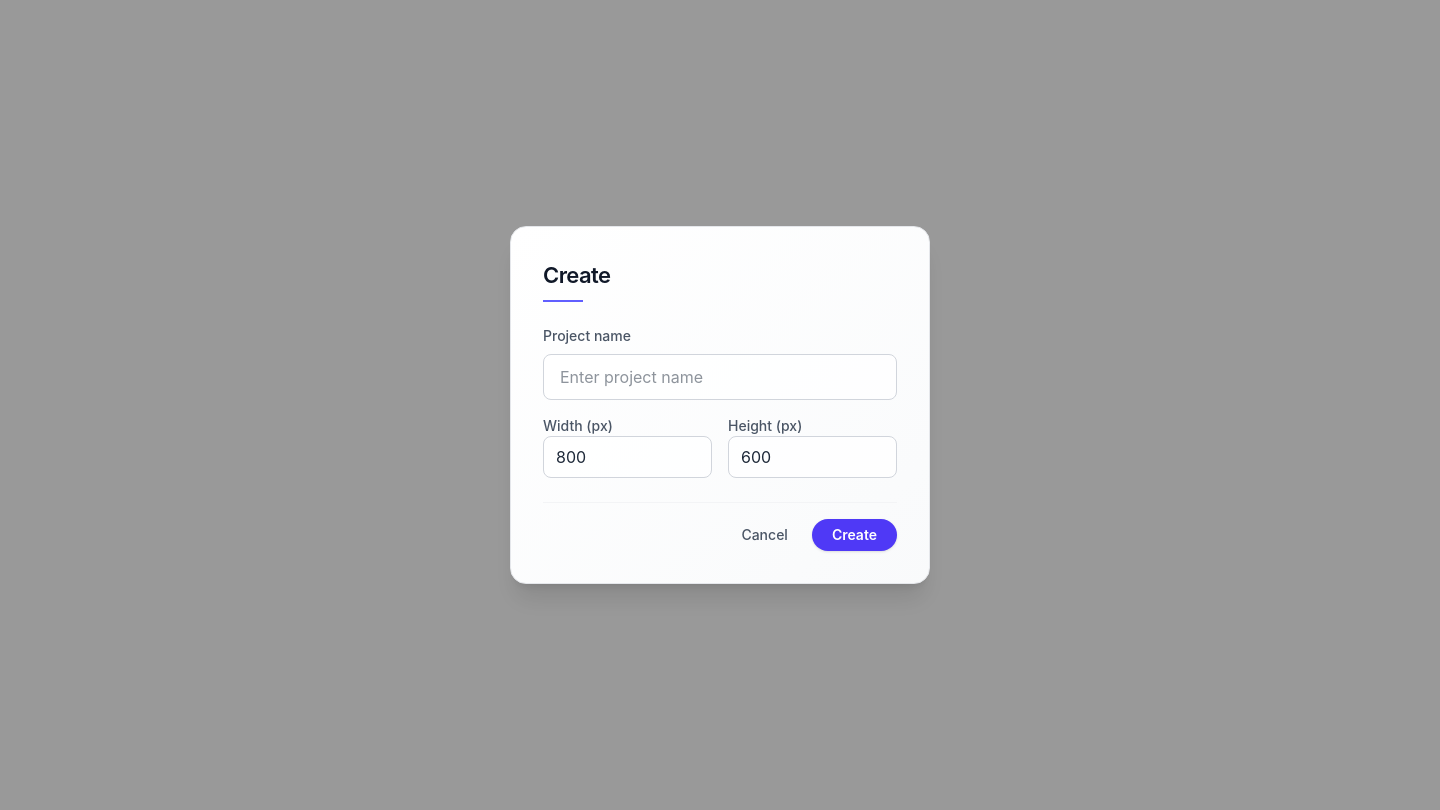
Test case: ProjectModalBase (simplified) › shows error when width > 4000
In the field with test id "project-input": (720, 377) [543, 354, 897, 400], type "X"
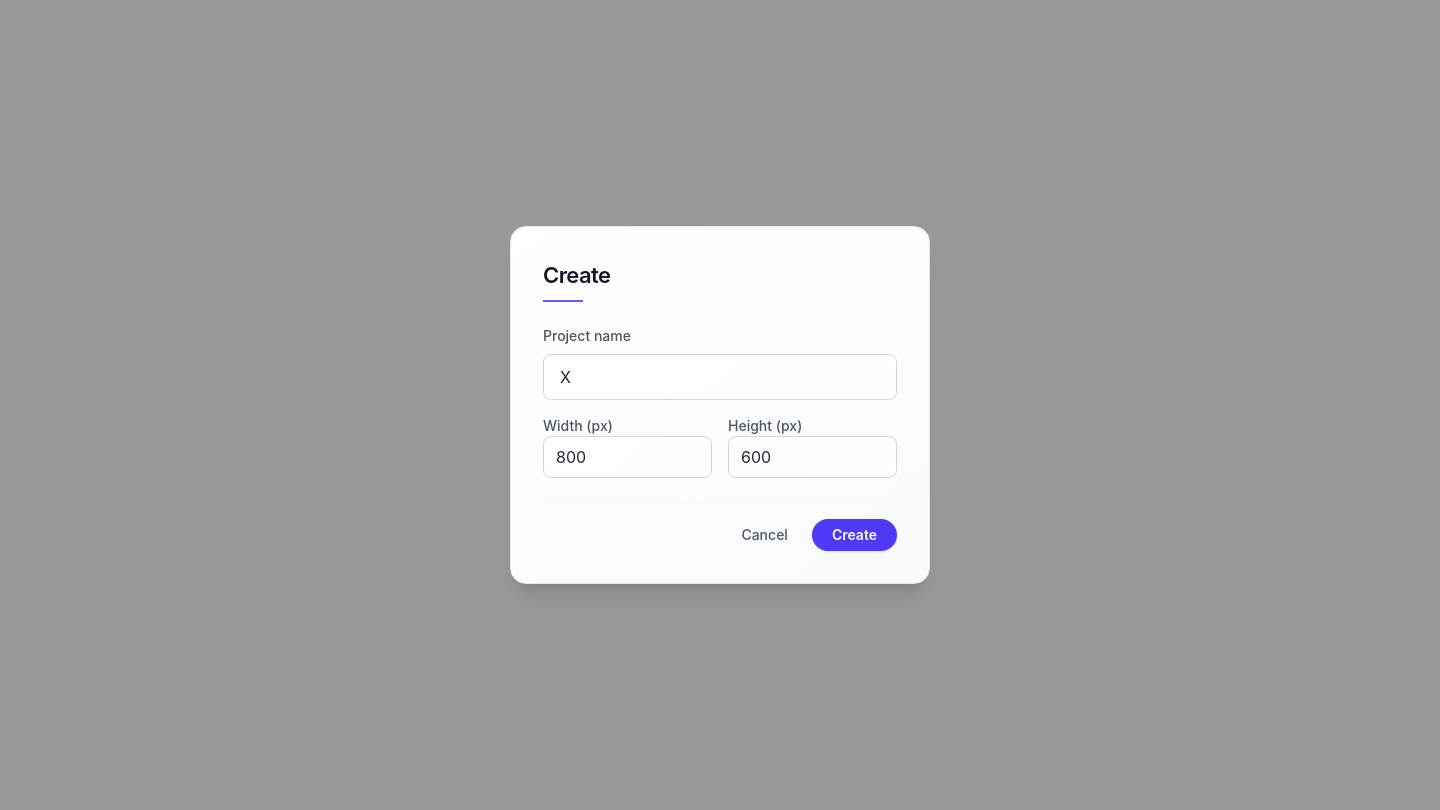
Replace the text in the number field with test id "canvas-width" with "9999": (628, 457) [543, 436, 712, 478]
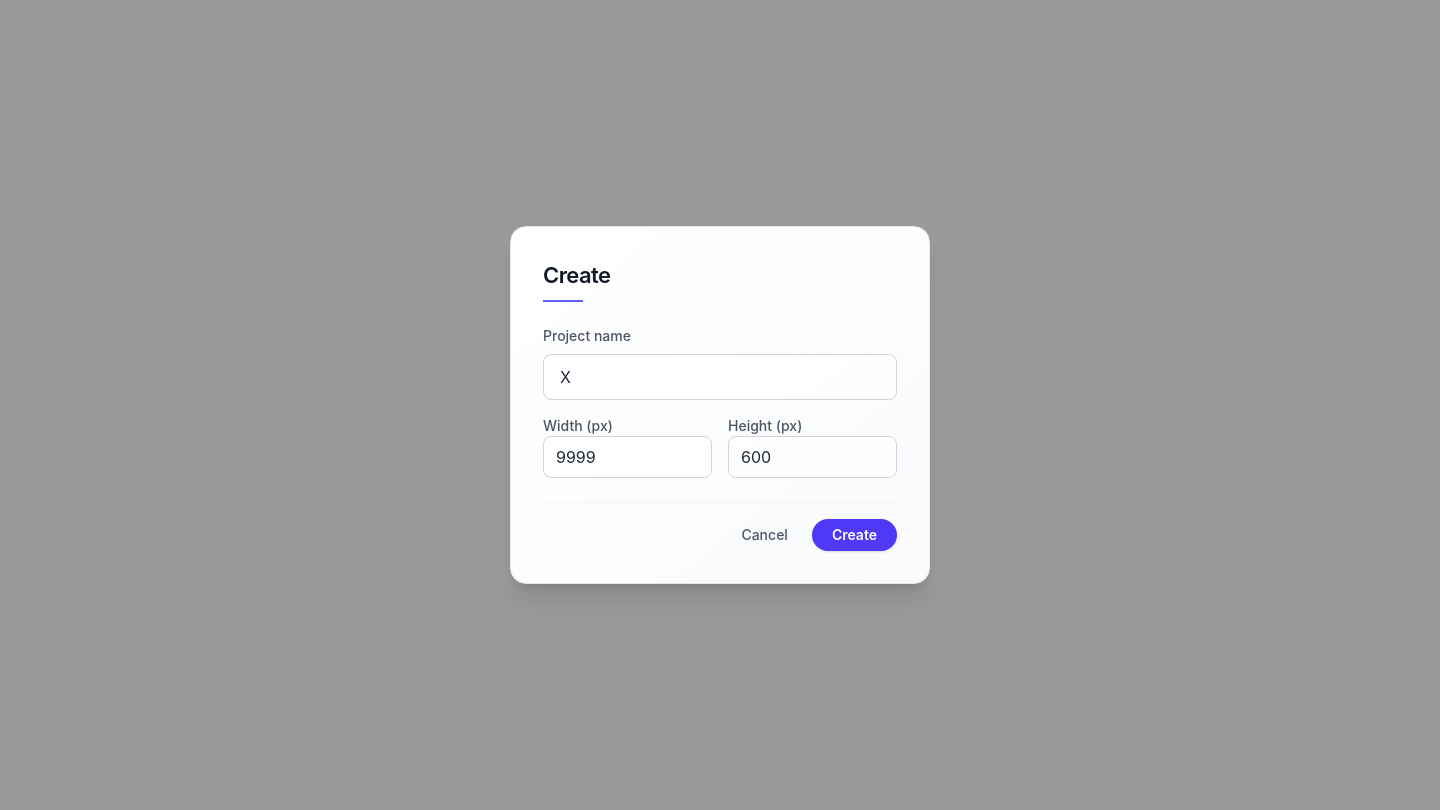
Submit the form with test id "project-form", box [510, 226, 930, 584]
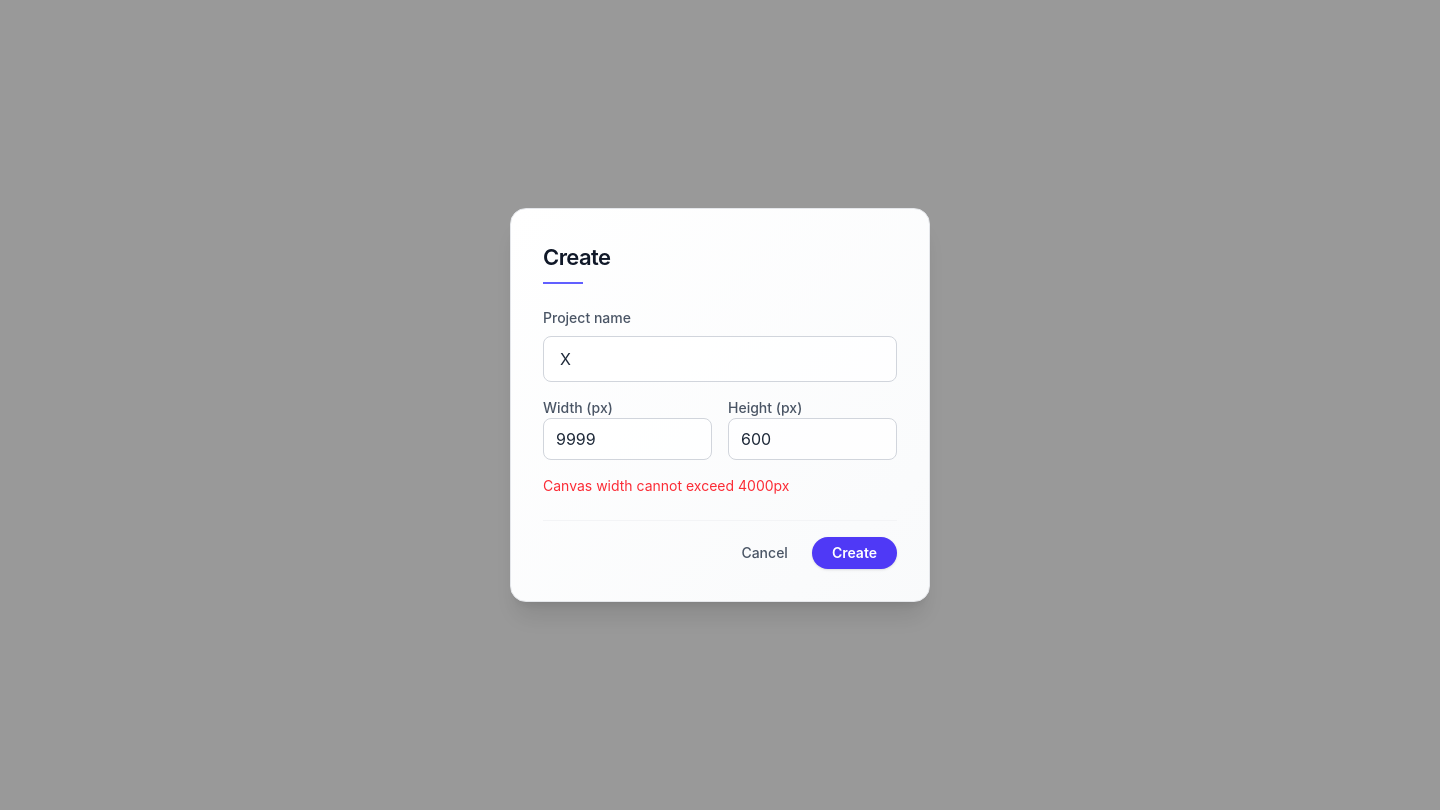
Expected: the text "Canvas width cannot exceed 4000px" is shown, [543, 477, 790, 494]
